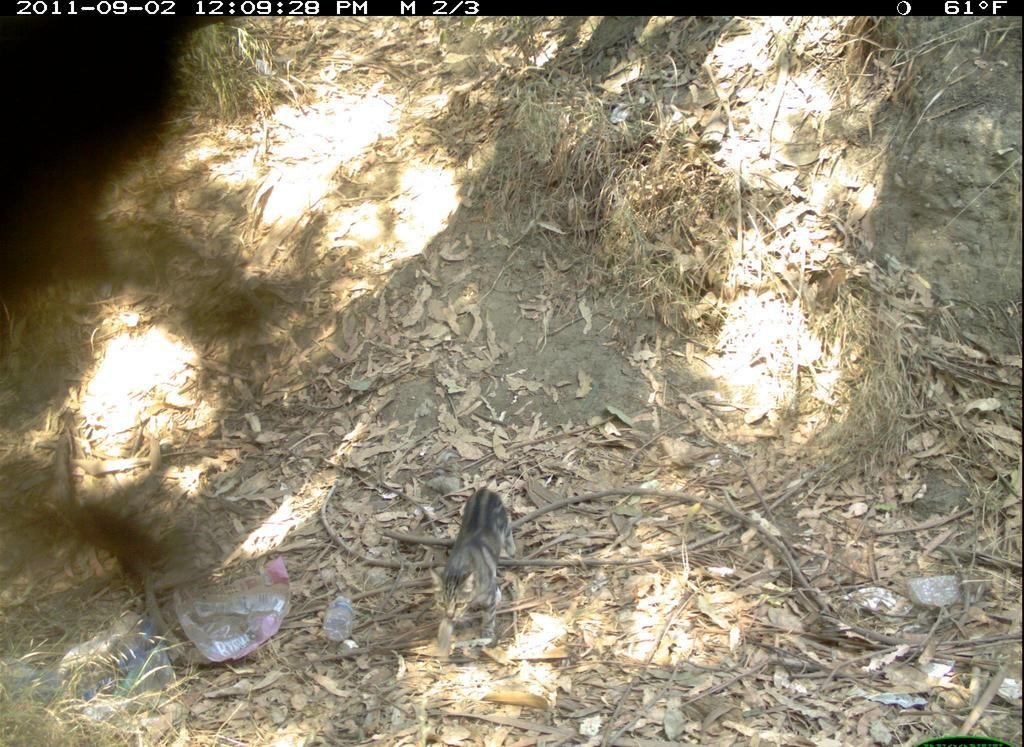cat: (419, 474, 528, 673)
